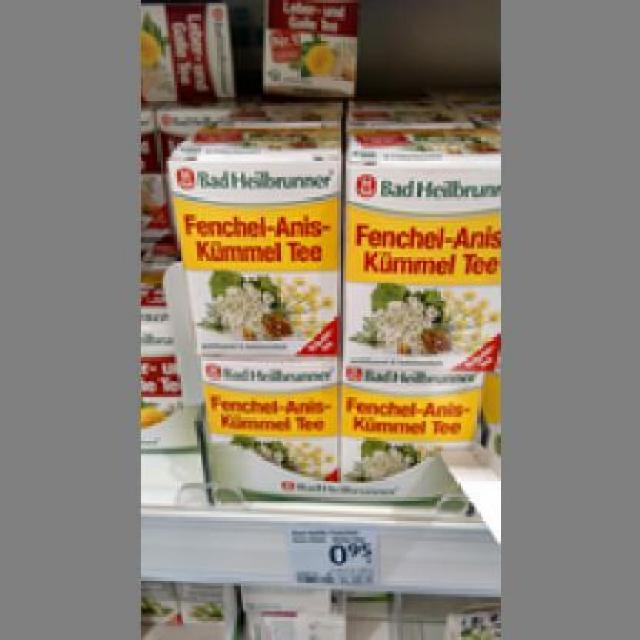Tea: (334, 119, 500, 372), (163, 126, 337, 360), (334, 363, 486, 483), (197, 352, 337, 478), (254, 0, 357, 97)
